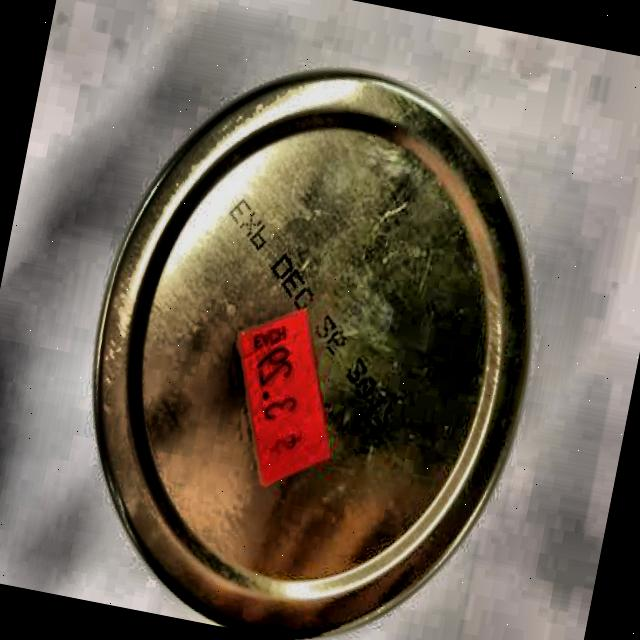metal: (45, 23, 577, 640)
